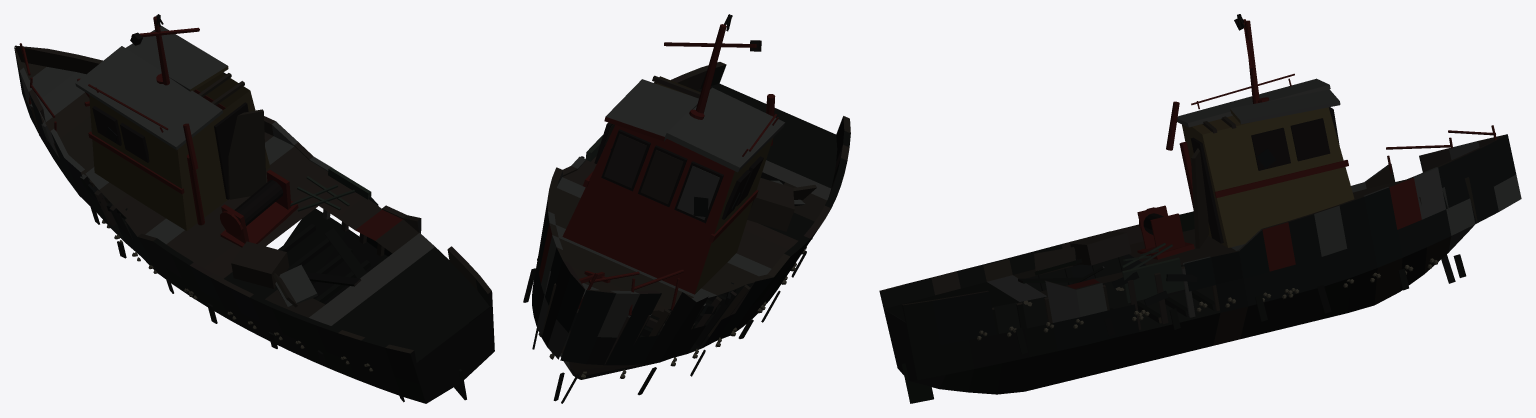
File: fishing_boat_shipwreck.fbx
The picture shows the model from 3 angles, left to right: view 1: azimuth 30°, elevation 25°; view 2: azimuth 150°, elevation 25°; view 3: azimuth 270°, elevation 25°; orthographic projection. The views are drawn at different scales.
Visible parts, largest first — view 1: SunkenFishingTrawlerWreck; view 2: SunkenFishingTrawlerWreck; view 3: SunkenFishingTrawlerWreck.
Part boxes in pixels (box(x1,y1,x2,y2)): SunkenFishingTrawlerWreck: box(14, 14, 494, 403); SunkenFishingTrawlerWreck: box(523, 14, 850, 403); SunkenFishingTrawlerWreck: box(879, 14, 1521, 403).
Size of the model in its own units: 356 by 468 by 845.
